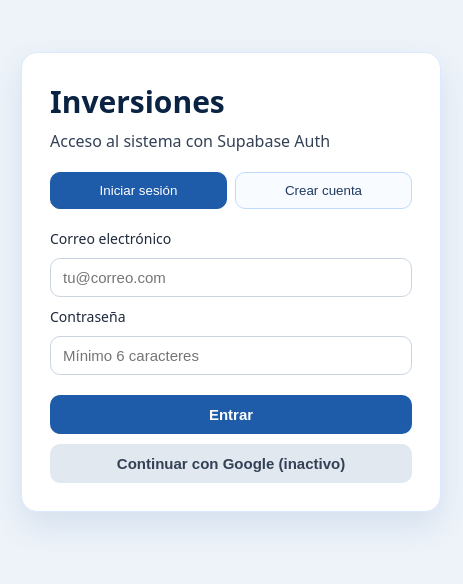
it: LoginPage › inicia sesion con credenciales validas
Type "  demo@correo.com  " into the field labelled "Correo electrónico" at (231, 278), box [50,258,412,297]
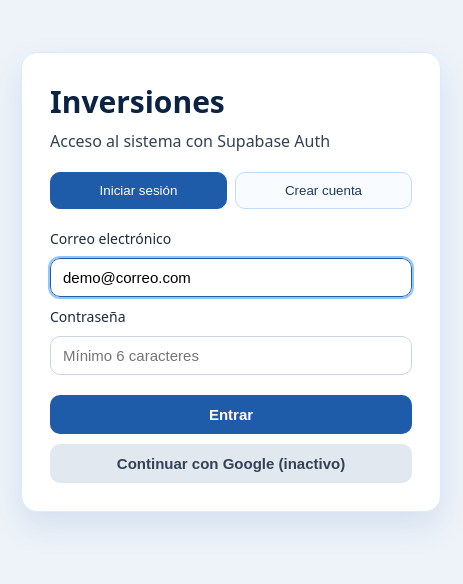
Type "123456" into the password field labelled "Contraseña" at (231, 356), box [50,336,412,375]
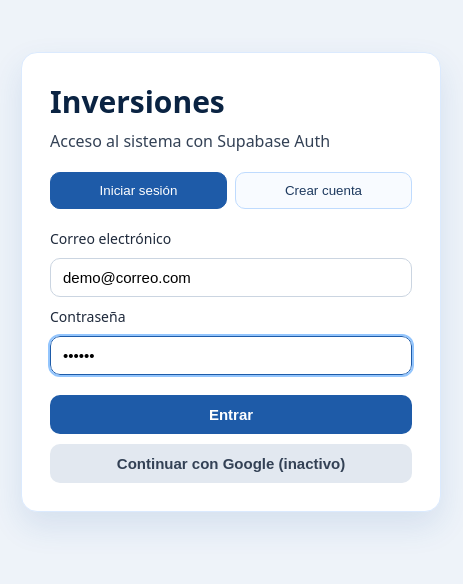
Click the button "Entrar" at (231, 414), box [50,395,412,434]
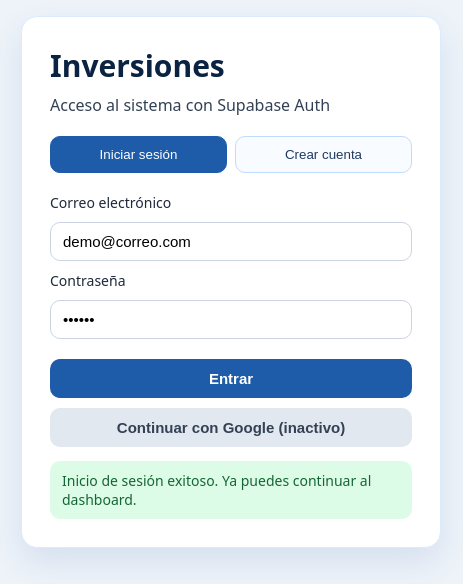
Expected: the text "Inicio de sesión exitoso. Ya puedes continuar al dashboard." is shown, [50,461,412,519]
